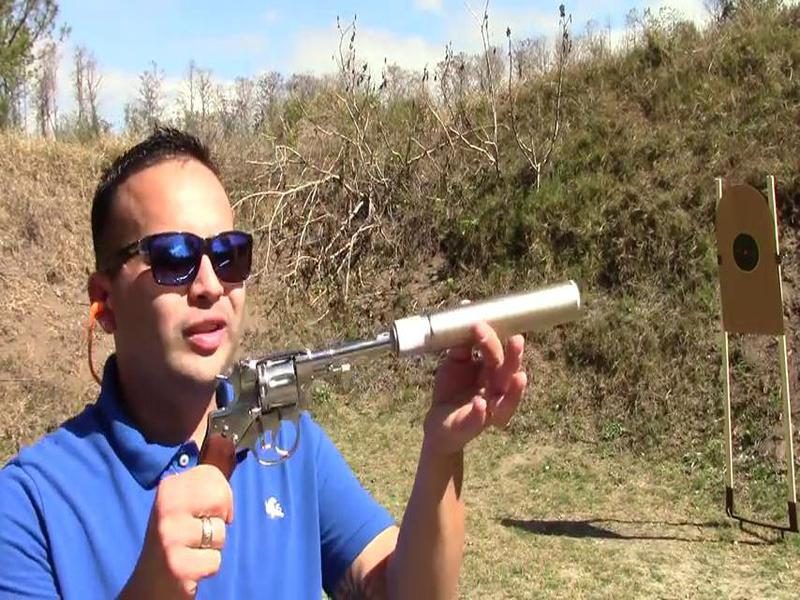Revolver: (167, 308, 394, 531)
